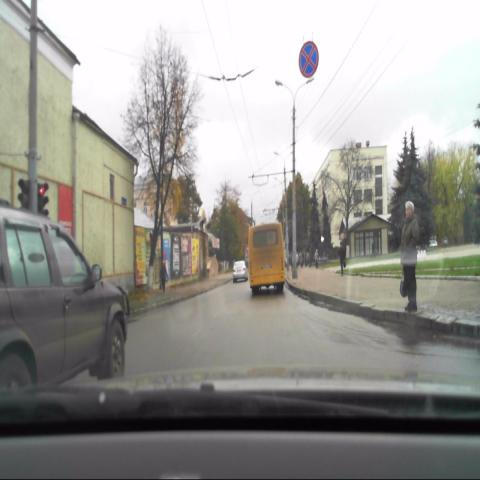3_27: (298, 38, 318, 80)
